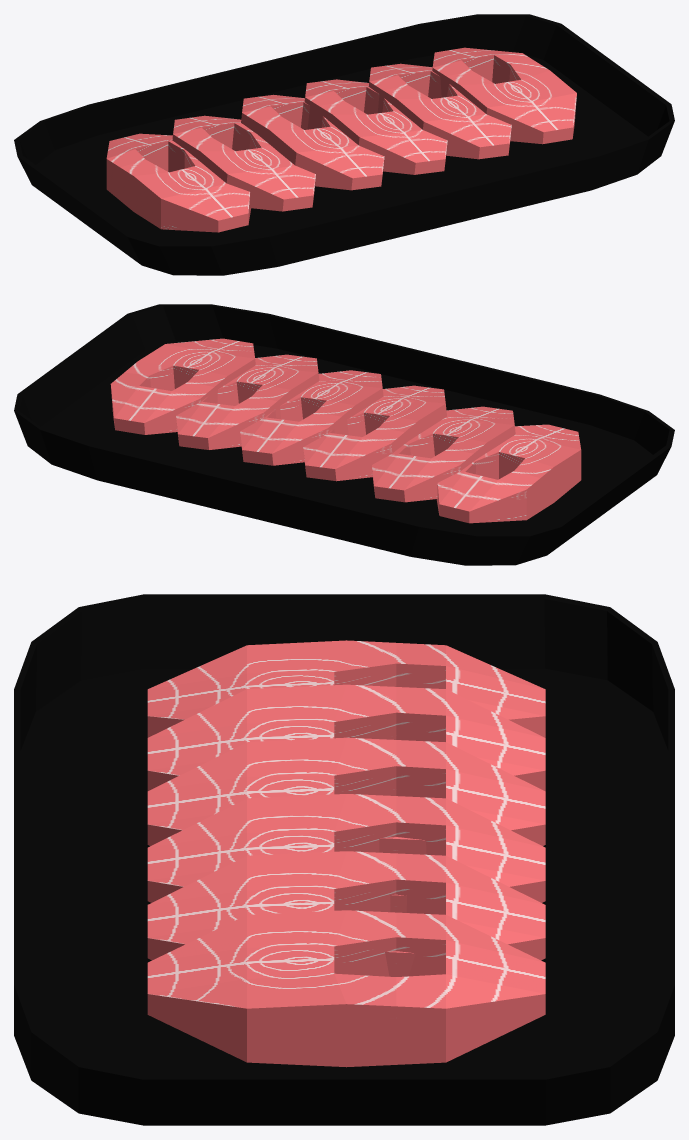
The model's file is Collectible Item.fbx_Fish_Cut.fbx.
The picture shows the model from 3 angles, top to bottom: view 1: azimuth 30°, elevation 25°; view 2: azimuth 150°, elevation 25°; view 3: azimuth 270°, elevation 25°; orthographic projection. The views are drawn at different scales.
Parts seen in each view (by area): view 1: Fish Chop Tray; view 2: Fish Chop Tray; view 3: Fish Chop Tray.
Part boxes in pixels (x1,y1,x2,y2): Fish Chop Tray: (14,14,674,275); Fish Chop Tray: (14,304,674,565); Fish Chop Tray: (14,594,674,1125).
Size of the model in its own units: 3.47 by 0.3067 by 2.
Materials: 2 (2 with a texture image).
